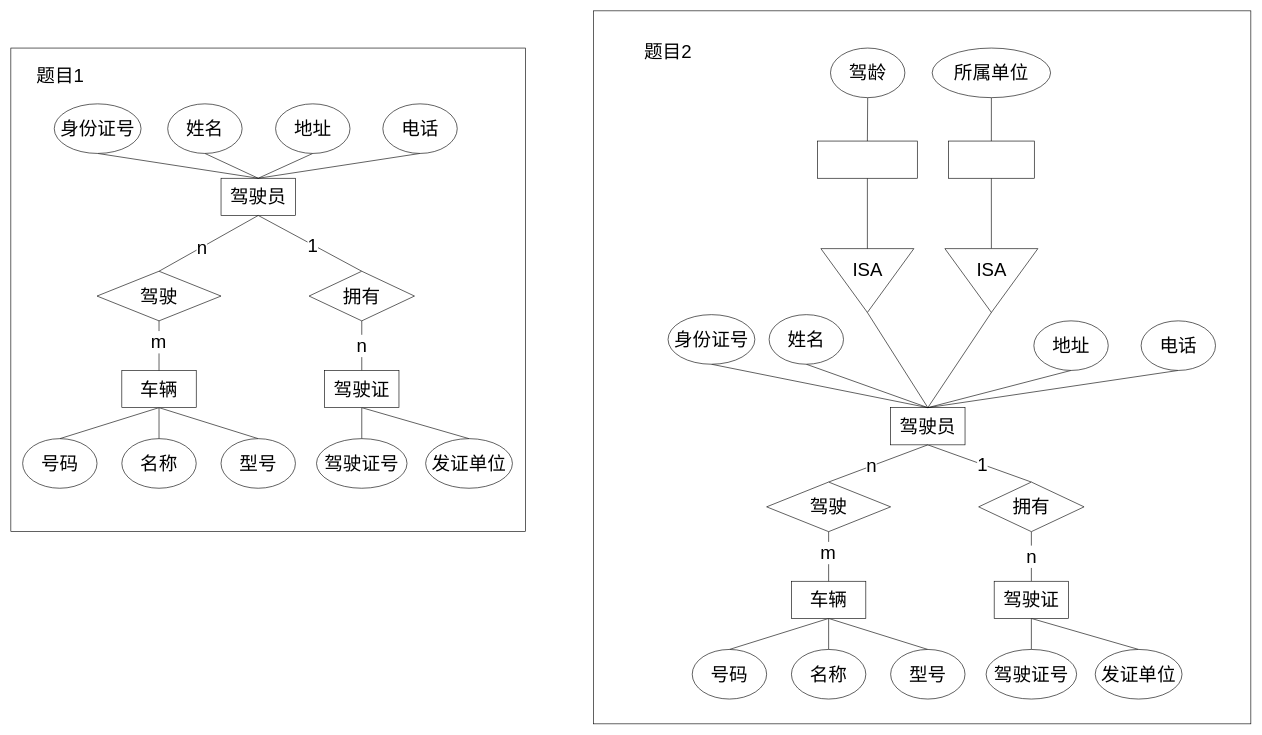
This 1262x735 diagram has some shape labels left out. Each missing label, with the box of its shape:
卡车司机: (948, 140, 1034, 178)
小车司机: (817, 140, 917, 178)
